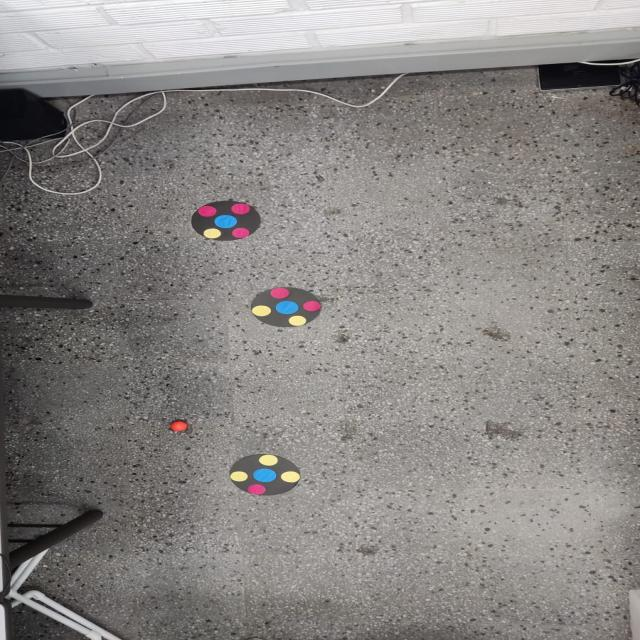0: (190, 200, 262, 241)
1: (249, 286, 322, 327)
2: (229, 452, 301, 496)
Ball: (168, 420, 189, 432)
